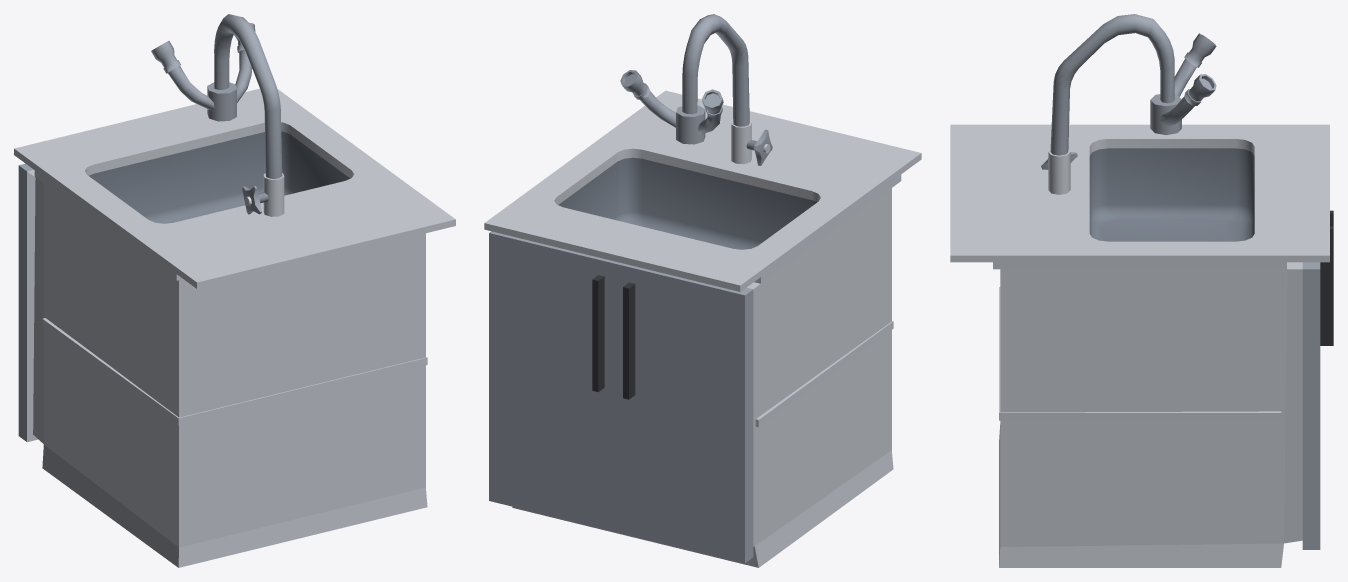
File: counter_counter_sink.glb
3 views of the same model, side by side, from view 1: azimuth 30°, elevation 25°; view 2: azimuth 150°, elevation 25°; view 3: azimuth 270°, elevation 25° (orthographic). The views are drawn at different scales.
Visible parts, largest first — view 1: counter_counter_sink.001, counter_counter_sink_faucet.001, counter_counter_sink_faucet_eye_wash.001, counter_counter_cabinet_door010; view 2: counter_counter_sink.001, counter_counter_cabinet_door010, counter_counter_cabinet_door011, counter_counter_sink_faucet.001, counter_counter_sink_faucet_eye_wash.001; view 3: counter_counter_sink.001, counter_counter_cabinet_door011, counter_counter_sink_faucet.001, counter_counter_sink_faucet_eye_wash.001.
Part boxes in pixels (bbox=[...]): counter_counter_sink.001: bbox=[14, 88, 455, 567]; counter_counter_sink_faucet.001: bbox=[214, 14, 282, 178]; counter_counter_sink_faucet_eye_wash.001: bbox=[151, 23, 255, 121]; counter_counter_cabinet_door010: bbox=[18, 163, 33, 441]; counter_counter_sink.001: bbox=[484, 90, 921, 567]; counter_counter_cabinet_door010: bbox=[617, 262, 753, 563]; counter_counter_cabinet_door011: bbox=[489, 231, 618, 531]; counter_counter_sink_faucet.001: bbox=[682, 14, 749, 126]; counter_counter_sink_faucet_eye_wash.001: bbox=[620, 70, 723, 144]; counter_counter_sink.001: bbox=[950, 124, 1329, 567]; counter_counter_cabinet_door011: bbox=[1302, 226, 1333, 549]; counter_counter_sink_faucet.001: bbox=[1050, 14, 1174, 155]; counter_counter_sink_faucet_eye_wash.001: bbox=[1150, 33, 1216, 135].
Bounding box in the file's own units: 62.02 × 108 × 76.73.
1 material, 1 textured.
